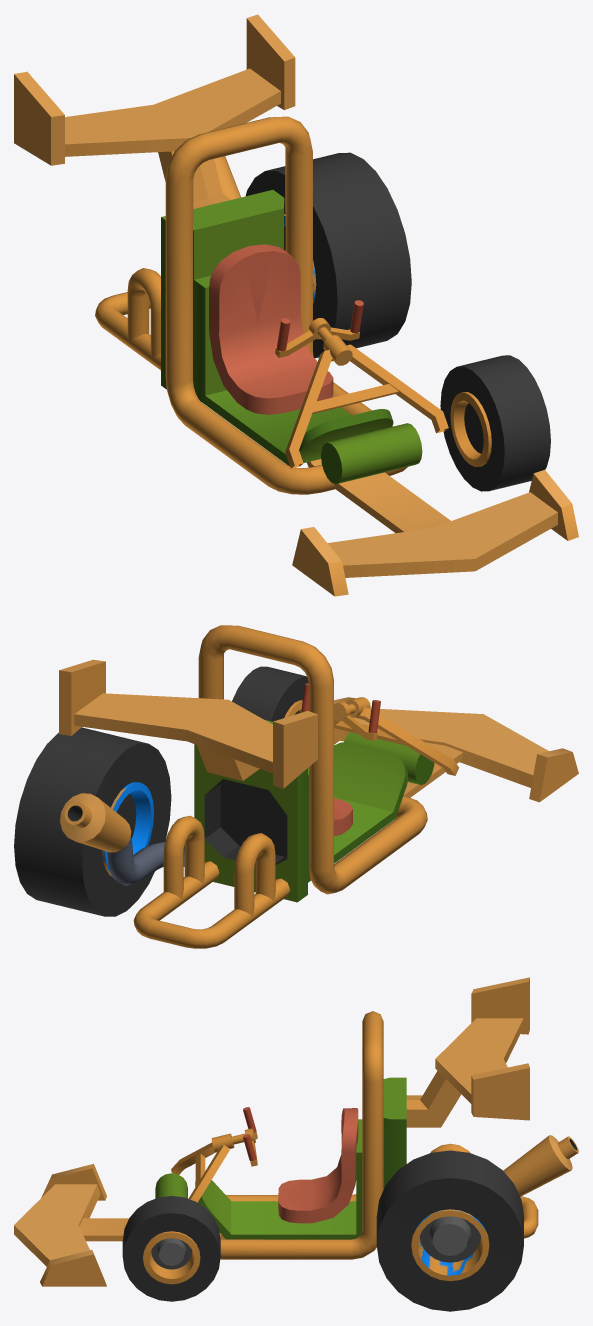
File: Buggy.fbx
The picture shows the model from 3 angles, top to bottom: view 1: azimuth 30°, elevation 25°; view 2: azimuth 150°, elevation 25°; view 3: azimuth 270°, elevation 25°; orthographic projection. The views are drawn at different scales.
Parts seen in each view (by area): view 1: Buggy 01 Kuzov Hlam, Buggy 01 Spoler, Buggy 01 Spoler Front, Buggy 01 Koleso Sport, Buggy 01 Koleso front Sport, Buggy 02 Koleso Sport Big Back, Buggy 01 Rul; view 2: Buggy 01 Kuzov Hlam, Buggy 01 Spoler, Buggy 02 Koleso Sport Big Back, Buggy 01 Koleso Sport, Buggy 01 Spoler Front, Buggy 01 Glushitel, Buggy 01 Koleso front Sport, Buggy 01 Rul; view 3: Buggy 01 Kuzov Hlam, Buggy 01 Koleso Sport, Buggy 01 Spoler, Buggy 01 Koleso front Sport, Buggy 01 Spoler Front, Buggy 01 Glushitel, Buggy 02 Koleso Sport Big Back, Buggy 01 Rul.
Part boxes in pixels (box(x1,y1,x2,y2)): Buggy 01 Kuzov Hlam: box(95, 116, 448, 494); Buggy 01 Spoler: box(14, 14, 295, 208); Buggy 01 Spoler Front: box(292, 459, 578, 596); Buggy 01 Koleso Sport: box(273, 153, 411, 358); Buggy 01 Koleso front Sport: box(440, 355, 550, 491); Buggy 02 Koleso Sport Big Back: box(245, 152, 411, 357); Buggy 01 Rul: box(275, 300, 363, 365); Buggy 01 Kuzov Hlam: box(133, 625, 458, 948); Buggy 01 Spoler: box(59, 659, 317, 788); Buggy 02 Koleso Sport Big Back: box(14, 727, 171, 916); Buggy 01 Koleso Sport: box(14, 729, 130, 916); Buggy 01 Spoler Front: box(334, 697, 578, 802); Buggy 01 Glushitel: box(60, 793, 184, 885); Buggy 01 Koleso front Sport: box(232, 666, 308, 721); Buggy 01 Rul: box(301, 683, 380, 740); Buggy 01 Kuzov Hlam: box(155, 1011, 538, 1259); Buggy 01 Koleso Sport: box(376, 1150, 523, 1311); Buggy 01 Spoler: box(406, 977, 529, 1127); Buggy 01 Koleso front Sport: box(122, 1196, 220, 1301); Buggy 01 Spoler Front: box(14, 1163, 225, 1286); Buggy 01 Glushitel: box(503, 1135, 578, 1196); Buggy 02 Koleso Sport Big Back: box(376, 1150, 523, 1275); Buggy 01 Rul: box(211, 1107, 257, 1166).
Size of the model in its own units: 1.72 by 1.61 by 3.68.
